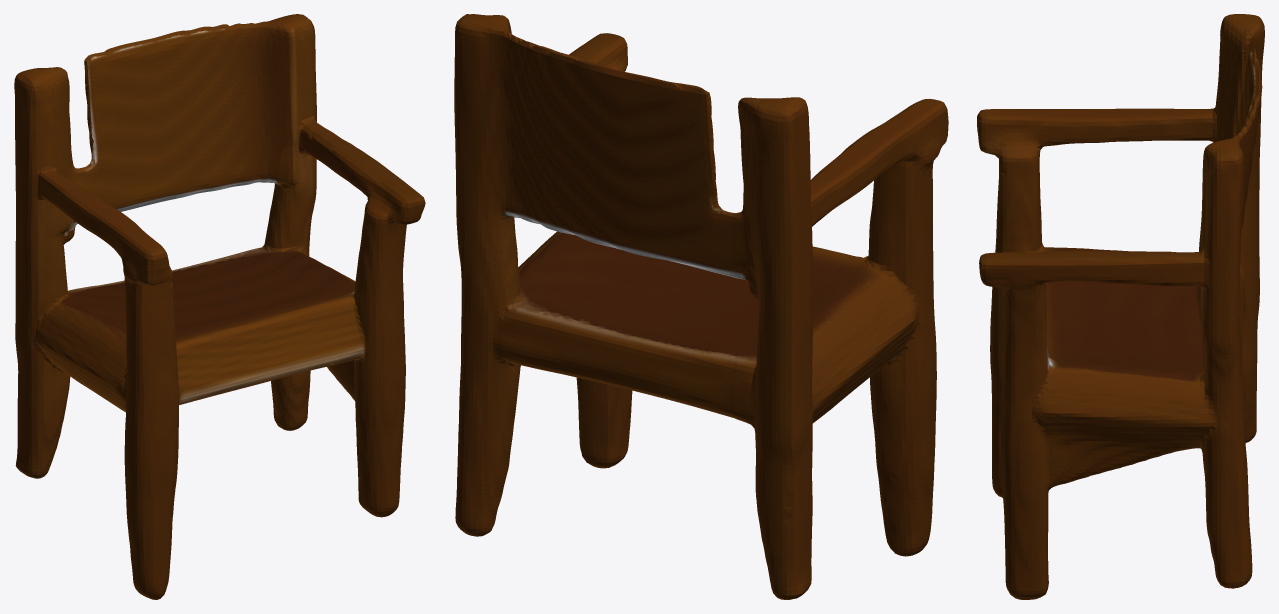
File: chair5.glb
3 renders of one model, left to right at view 1: azimuth 30°, elevation 25°; view 2: azimuth 150°, elevation 25°; view 3: azimuth 270°, elevation 25°, orthographic. The views are drawn at different scales.
Visible parts, largest first — view 1: tmpqt7z39nw.ply; view 2: tmpqt7z39nw.ply; view 3: tmpqt7z39nw.ply.
Boxes of the visible parts, left/top/right/bottom form: tmpqt7z39nw.ply: left=14, top=14, right=425, bottom=599; tmpqt7z39nw.ply: left=454, top=14, right=948, bottom=599; tmpqt7z39nw.ply: left=977, top=14, right=1264, bottom=599.
Size of the model in its own units: 1.31 by 1.96 by 1.07.
1 material, 1 textured.
